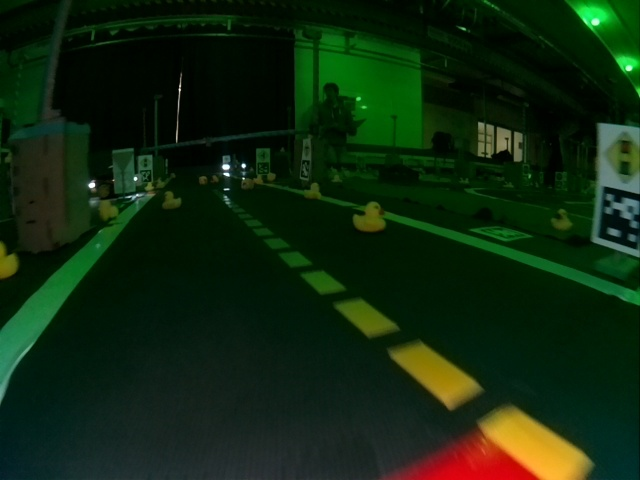Duckie: (353, 201, 384, 231), (551, 209, 572, 230), (99, 201, 118, 221), (163, 191, 181, 209), (305, 183, 320, 199), (198, 176, 208, 186), (244, 179, 252, 188)
Intersection sign: (257, 150, 269, 160)
QR code: (598, 187, 639, 250), (473, 227, 530, 241), (300, 160, 309, 179), (257, 163, 269, 174)
Signal sign: (605, 132, 640, 181)
